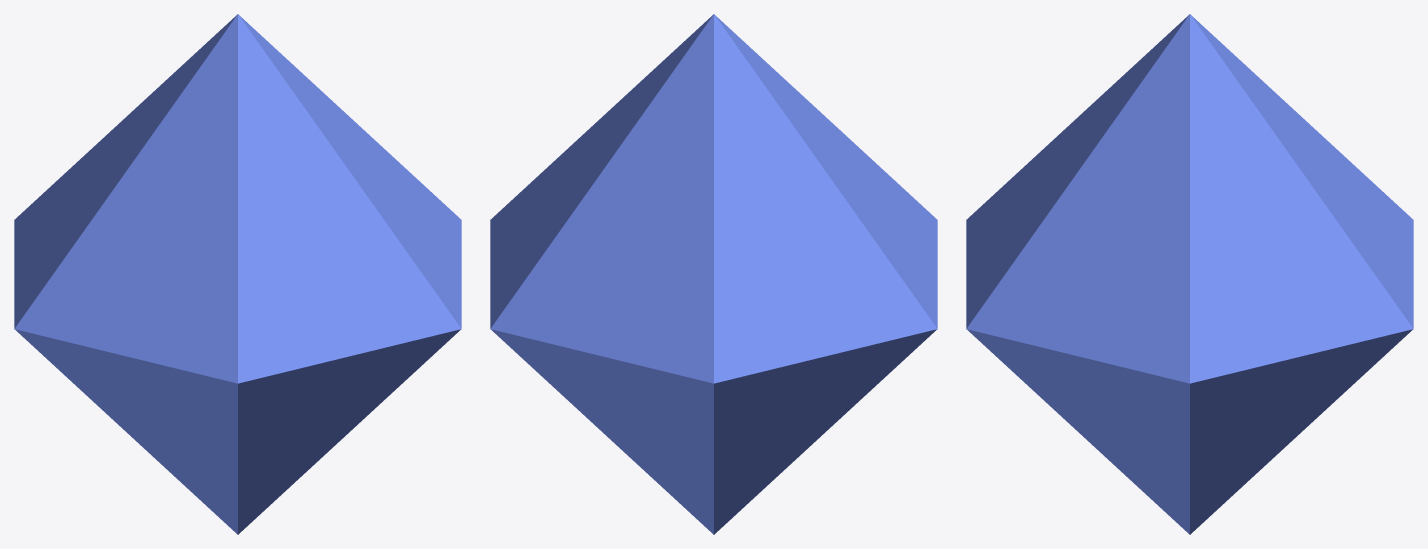
File: jewel.fbx
3 views of the same model, side by side, from view 1: azimuth 30°, elevation 25°; view 2: azimuth 150°, elevation 25°; view 3: azimuth 270°, elevation 25° (orthographic).
Parts seen in each view (by area): view 1: jewel; view 2: jewel; view 3: jewel.
Boxes of the visible parts, box(x1,y1,x2,y2) form: jewel: box(14, 14, 461, 534); jewel: box(490, 14, 937, 534); jewel: box(966, 14, 1413, 534).
Bounding box in the file's own units: 3.33 × 3.7 × 2.88.
